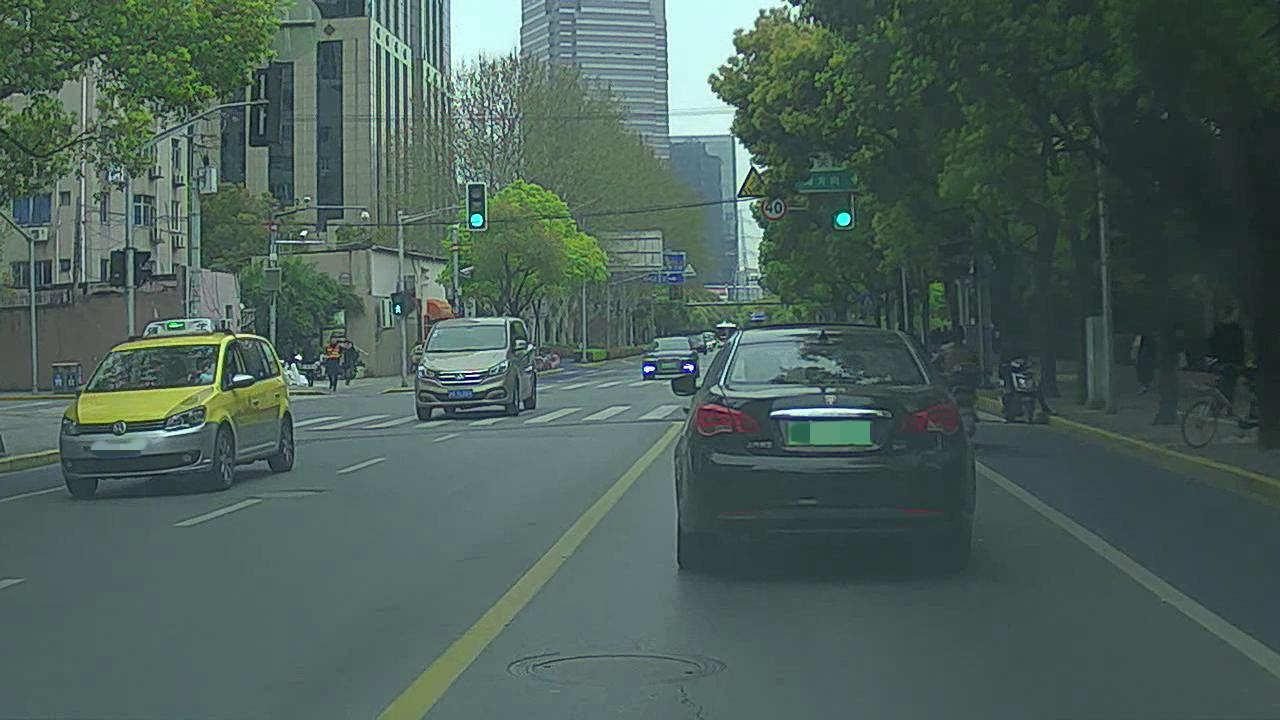traffic_light: (465, 183, 488, 232)
